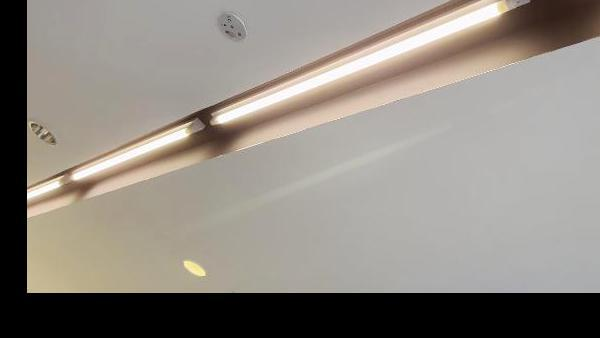light_on: (201, 0, 546, 134), (66, 88, 199, 192), (27, 170, 72, 207)
